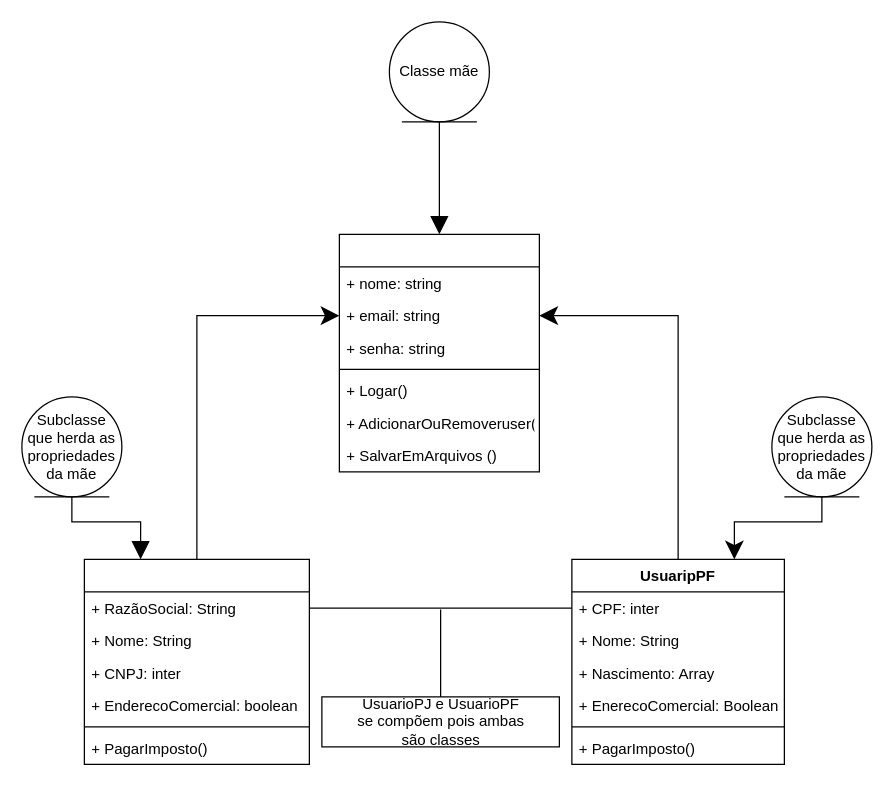
The diagram is 894 pixels wide and 790 high, and some of its shapes have lost their labels. Here are the shapes that lost their labels. From the top down, the box of each, then its label:
(338, 233, 539, 472): UsuarioAdmin
(83, 558, 309, 764): UsuarioPJ
